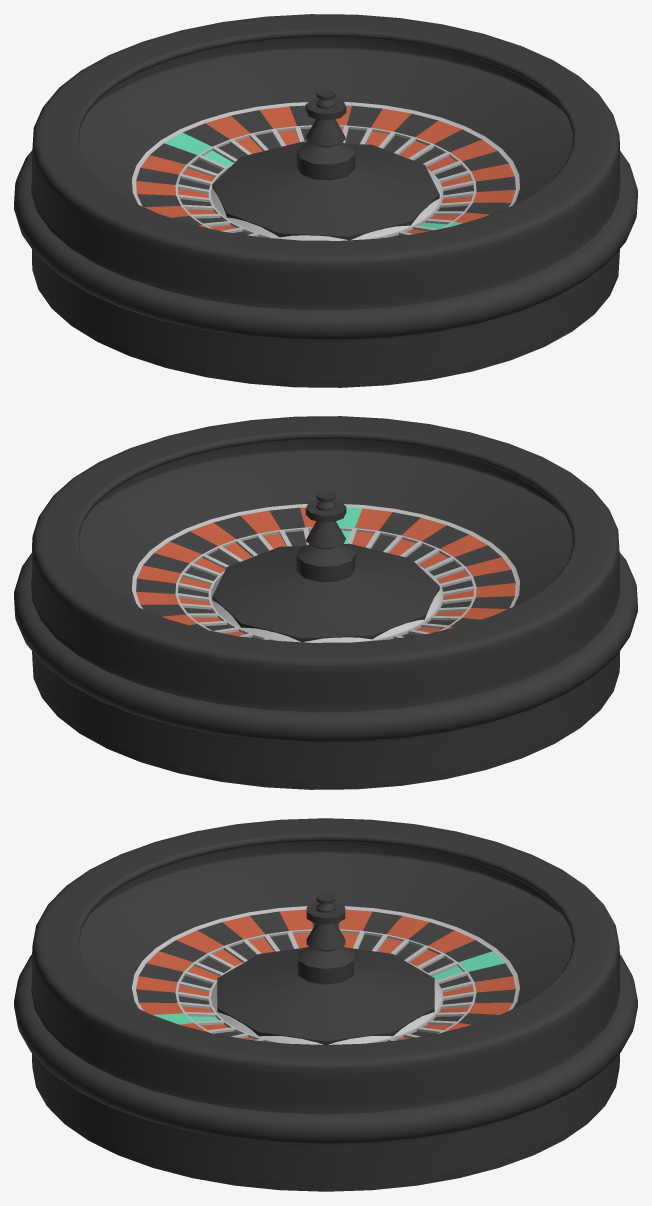
File: RouletteWheel.fbx
The picture shows the model from 3 angles, top to bottom: view 1: azimuth 30°, elevation 25°; view 2: azimuth 150°, elevation 25°; view 3: azimuth 270°, elevation 25°; orthographic projection.
Parts seen in each view (by area): view 1: WheelWood, WheelNumbers, pCylinder1; view 2: WheelWood, WheelNumbers, pCylinder1; view 3: WheelWood, WheelNumbers, pCylinder1.
Boxes of the visible parts, x1=… form: WheelWood: x1=14, y1=14, x2=637, y2=387; WheelNumbers: x1=132, y1=102, x2=519, y2=240; pCylinder1: x1=212, y1=89, x2=439, y2=240; WheelWood: x1=14, y1=416, x2=637, y2=789; WheelNumbers: x1=132, y1=504, x2=519, y2=642; pCylinder1: x1=212, y1=491, x2=439, y2=642; WheelWood: x1=14, y1=818, x2=637, y2=1191; WheelNumbers: x1=132, y1=906, x2=519, y2=1044; pCylinder1: x1=217, y1=893, x2=434, y2=1044.
Size of the model in its own units: 8.9 by 2.69 by 8.9.
